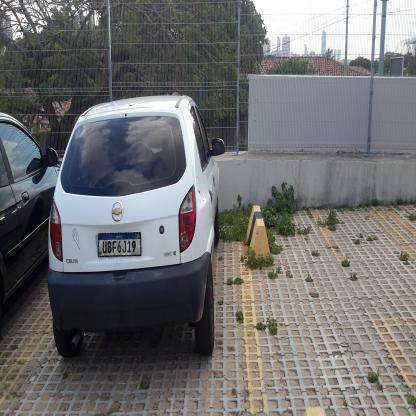PlacaM: (98, 232, 141, 257)
